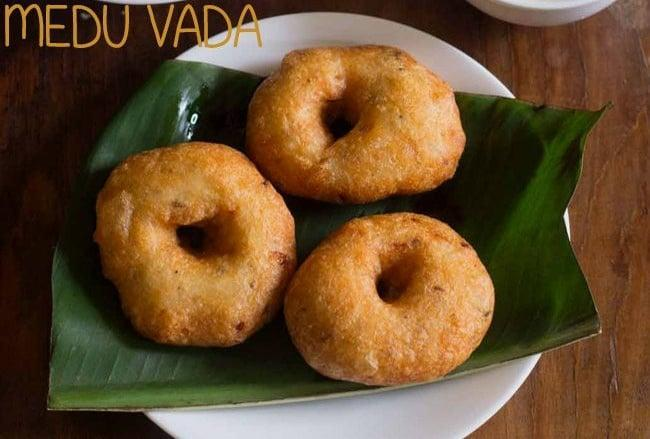mvada: (249, 50, 456, 251)
